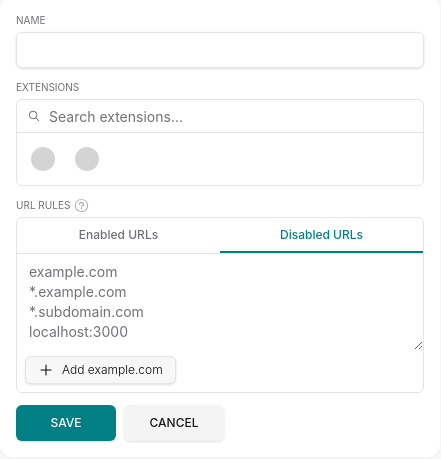
Test: GroupRules › add current page domain › adds the open tab's domain to the Disabled URLs field when clicked, then swaps to a Remove button
The image size is (441, 459).
Check: the button "Save" is shown, box [16,405,116,441]
Click the button "Add example.com": (100, 370) [25,356,176,384]
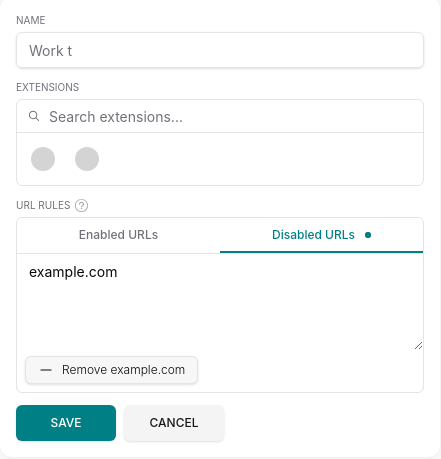
Check: the text box named "disabledUrls" holds "example.com", box [17,254,423,350]
Check: the button "Add example.com" is gone
Check: the button "Remove example.com" is shown, box [25,356,198,384]
